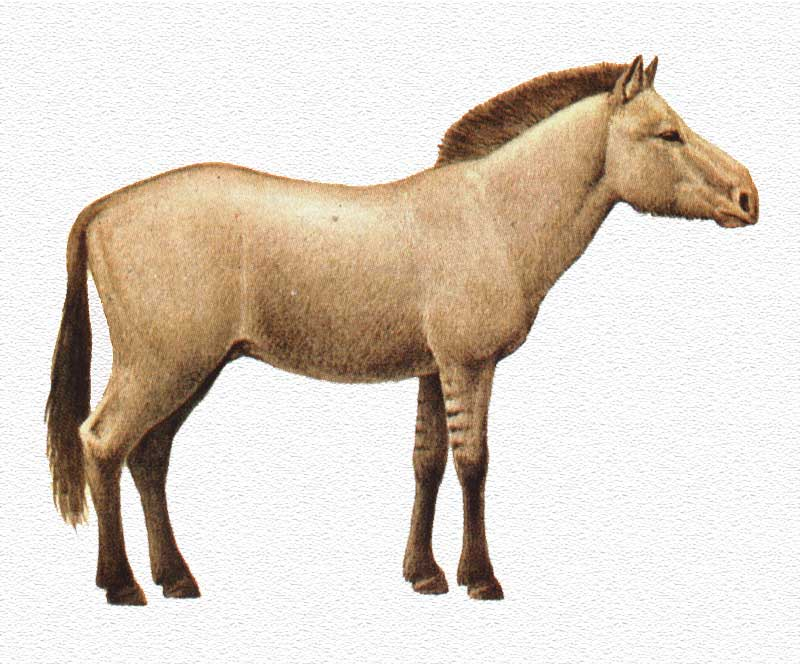horse: (22, 20, 774, 630)
